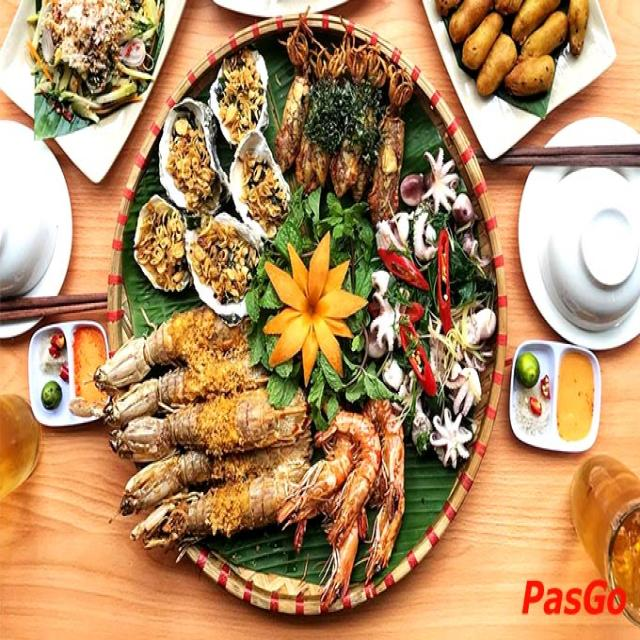bach tuoc hap: (375, 214, 439, 390), (439, 322, 482, 463), (408, 159, 458, 253)
bia: (0, 392, 37, 506)
hau nuong mo hanh: (131, 54, 287, 318)
muc chien: (279, 26, 400, 208)
muoi ot chanh: (558, 350, 597, 450), (73, 328, 95, 403)
muoi tieu chanh: (518, 348, 551, 446), (30, 338, 70, 416)
tom nuong: (300, 392, 407, 596)
tom tit nuong: (98, 338, 298, 511)
